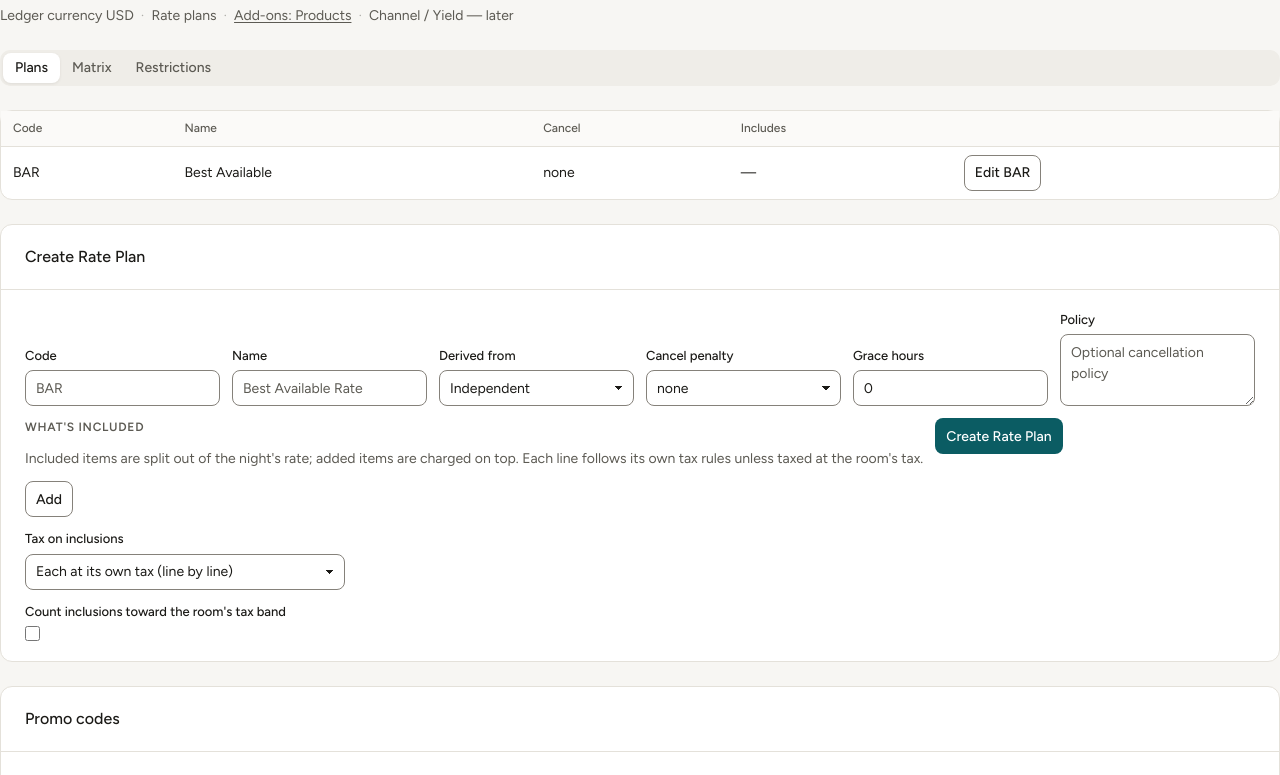
Test: RatesScreen › a queued plan edit shows the queued copy
Click the button "Edit BAR" at (1003, 173), box x1=964 y1=155 x2=1041 y2=191
(page scrolled)
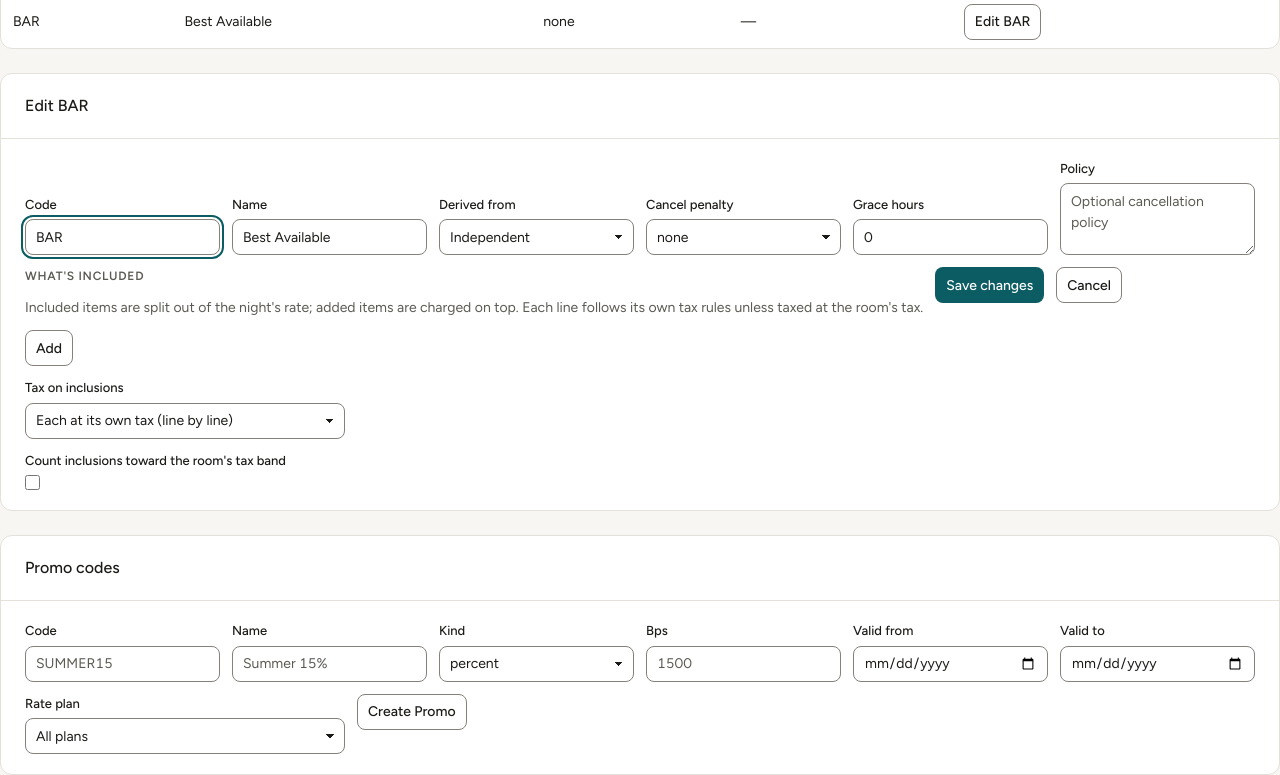
Click the button "Save changes" at (990, 286), box x1=935 y1=268 x2=1044 y2=304
(page scrolled)
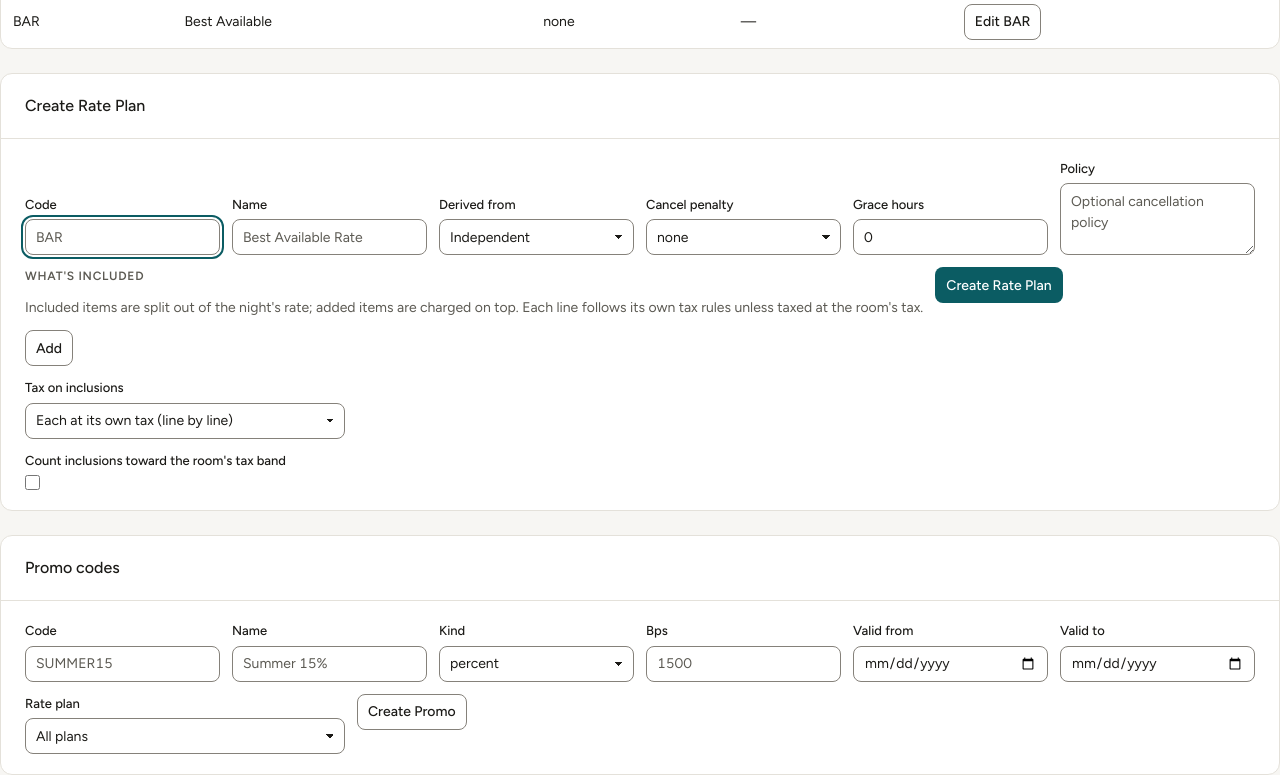
expect the heading "Create Rate Plan" is shown: met, box x1=25 y1=94 x2=145 y2=118
